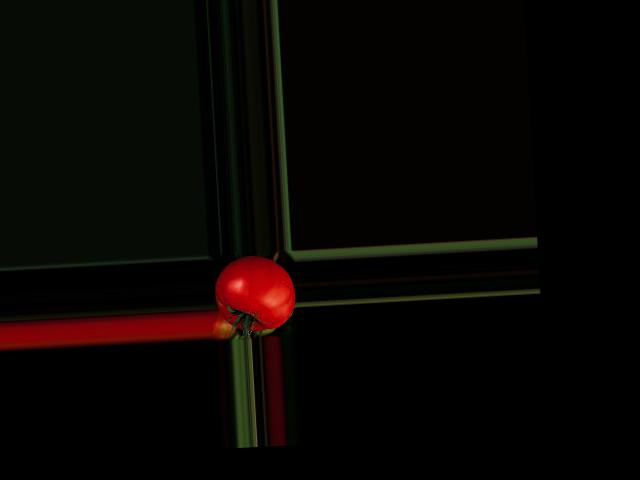tomato: (214, 253, 297, 332)
